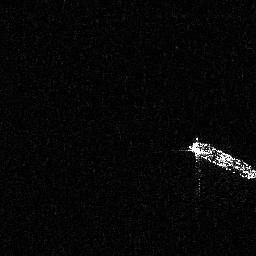ship: (173, 136, 256, 197)
